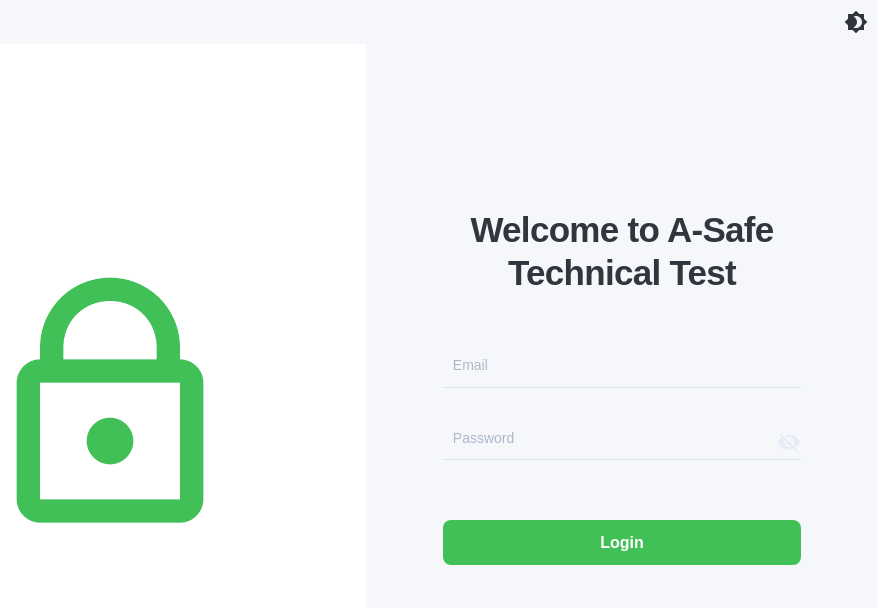
Test: Authentication › Fails with incorrect credentials
Type "wrong@example.com" into the field named "email" at (622, 370), box [443,351,801,388]
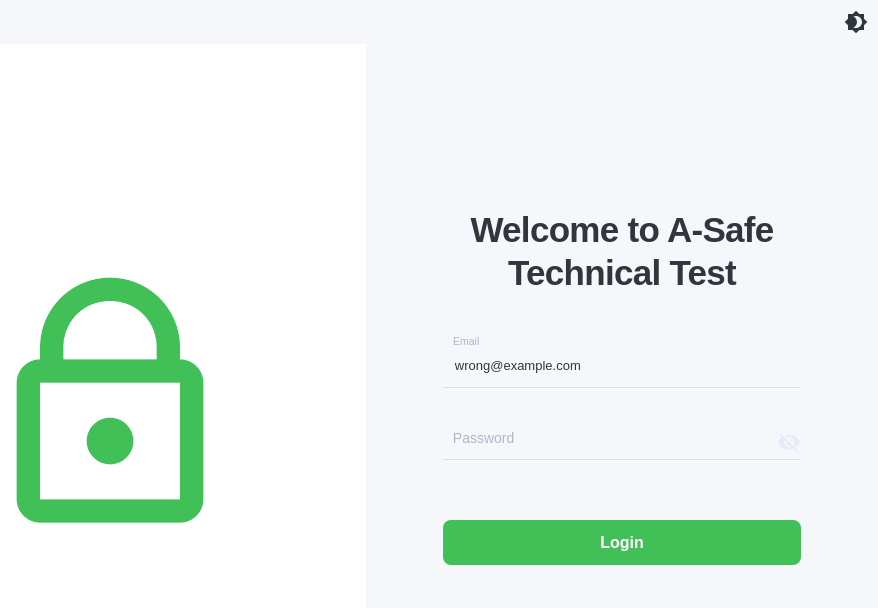
Type "wrongpassword" into the password field named "password" at (606, 443), box [443,424,769,461]
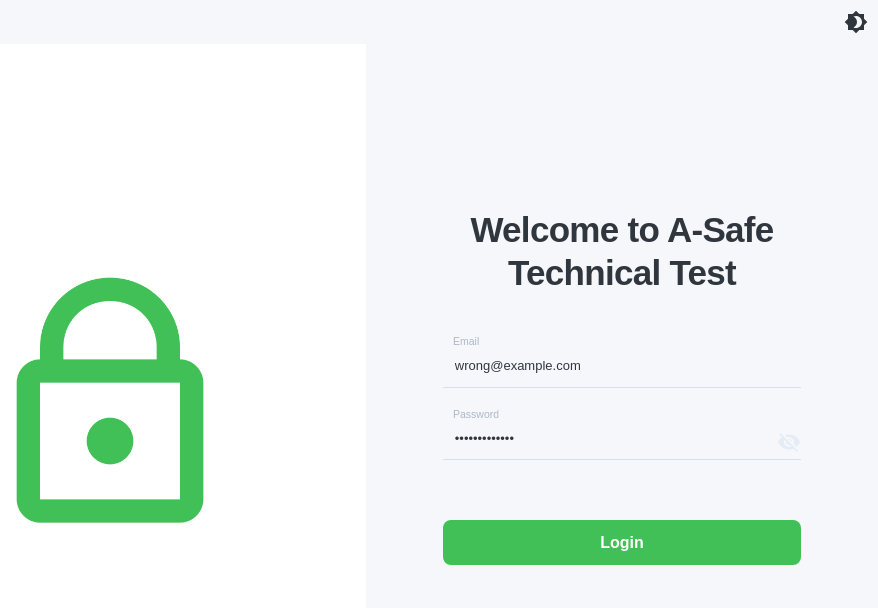
Click the submit button at (622, 543), box [443,520,801,565]
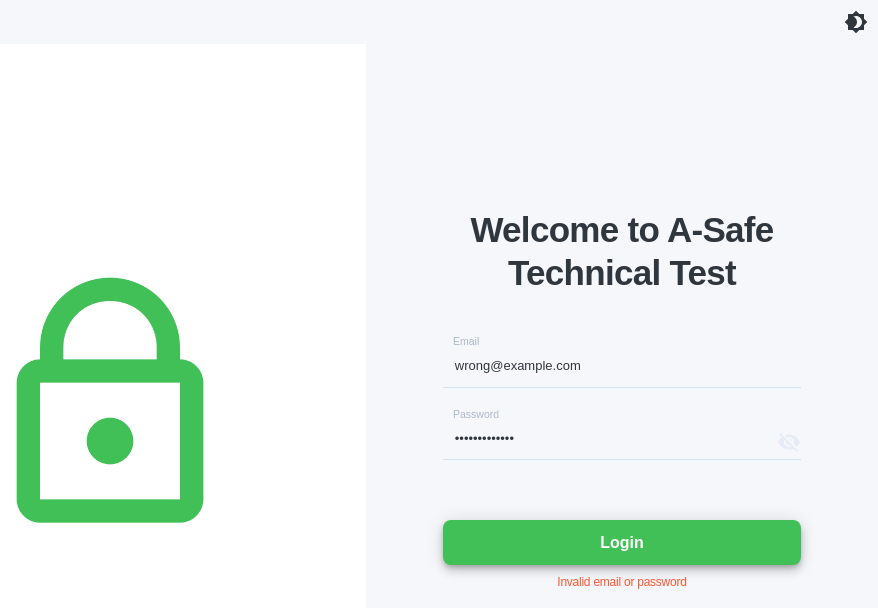
Check: the text "Invalid email or password" is shown, box [557,573,687,591]
